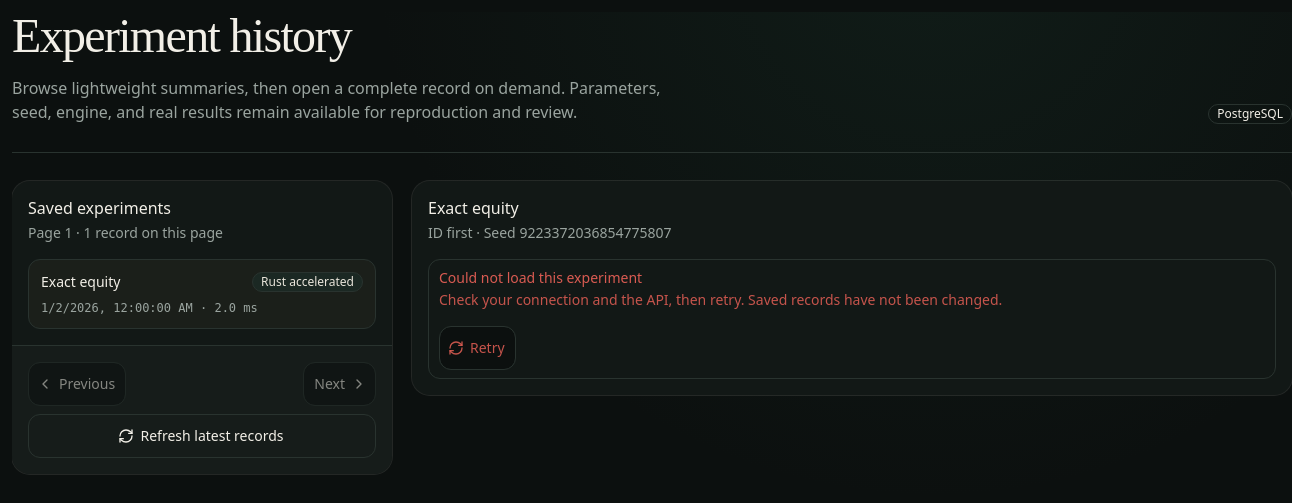
Test: experiment ledger › retries missing detail without exporting a different or incomplete record
Expected: the text "Could not load this experiment" is shown, [439,268,642,287]
Expected: the button "Download JSON" is not shown
Click the button "Retry".
click(477, 348)  # box [439,326,516,370]
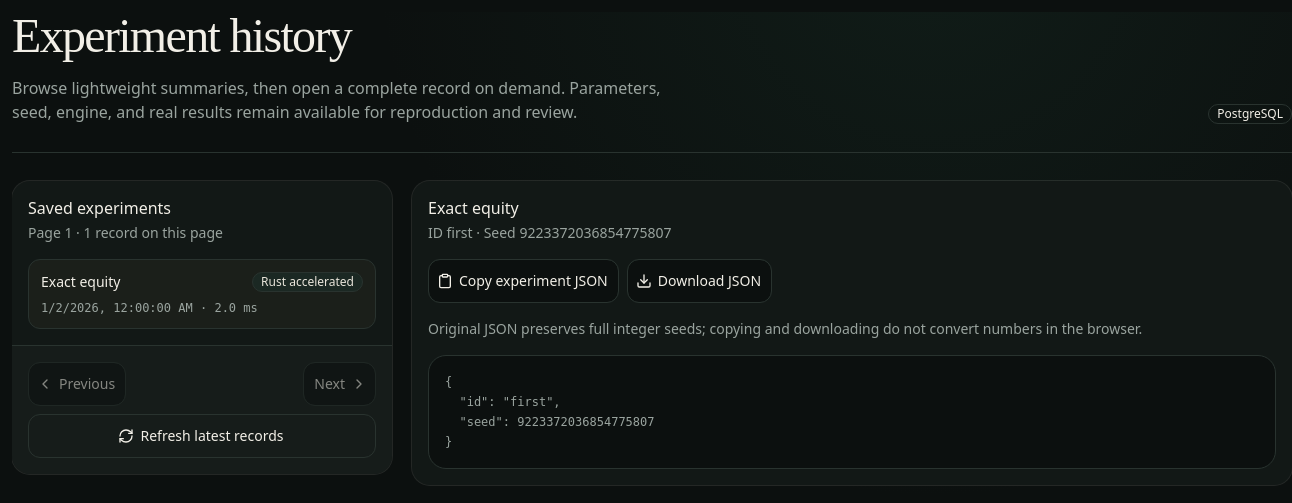
Expected: the text named "Complete experiment JSON" shows "9223372036854775807", [445,375,654,449]
